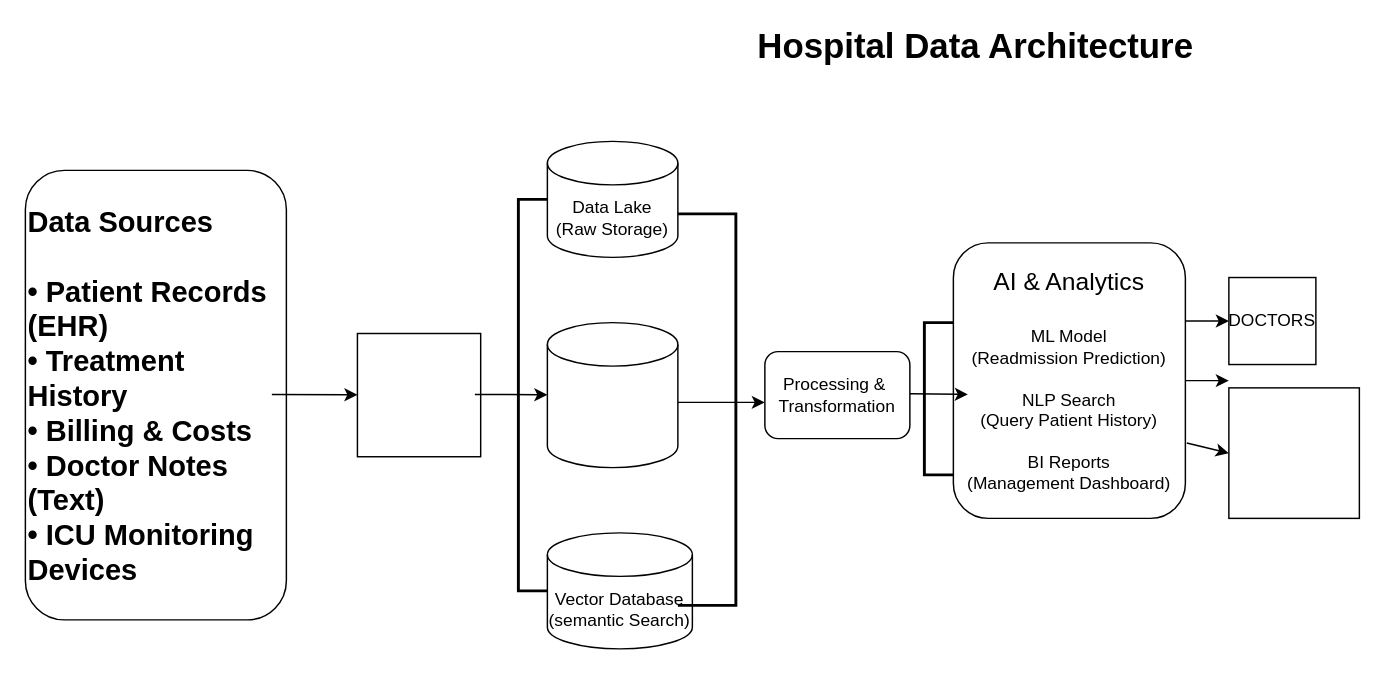
Some shapes in this 1385 by 674 pixel diagram are drawn without their labels. The shapes that lost their labels are listed below. From the top down, each one's box as (x1, y1, x2, y2) in pixels, then its label:
(356, 332, 481, 457): ETL & Straming (Kafka)
(546, 321, 678, 468): Data Warehouse (Reporting Data)
(1227, 386, 1359, 518): HOSPITAL MANAGEMENT
